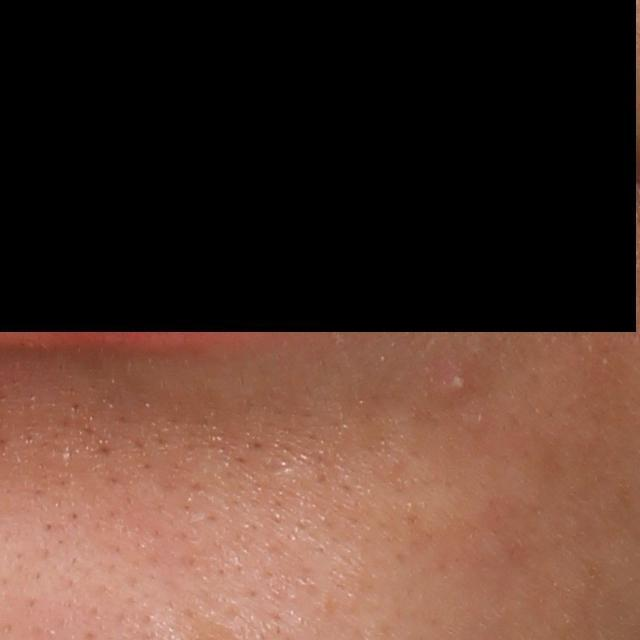pustule: (430, 366, 469, 405)
